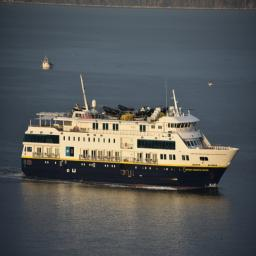cruises: (21, 71, 241, 195)
